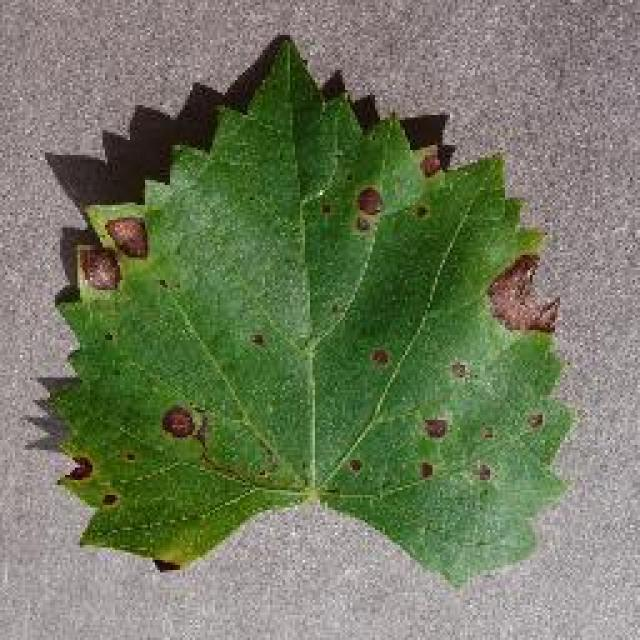Grape___Black_rot: (45, 36, 595, 605)
